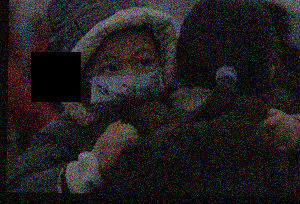with_mask: (87, 43, 165, 115)
